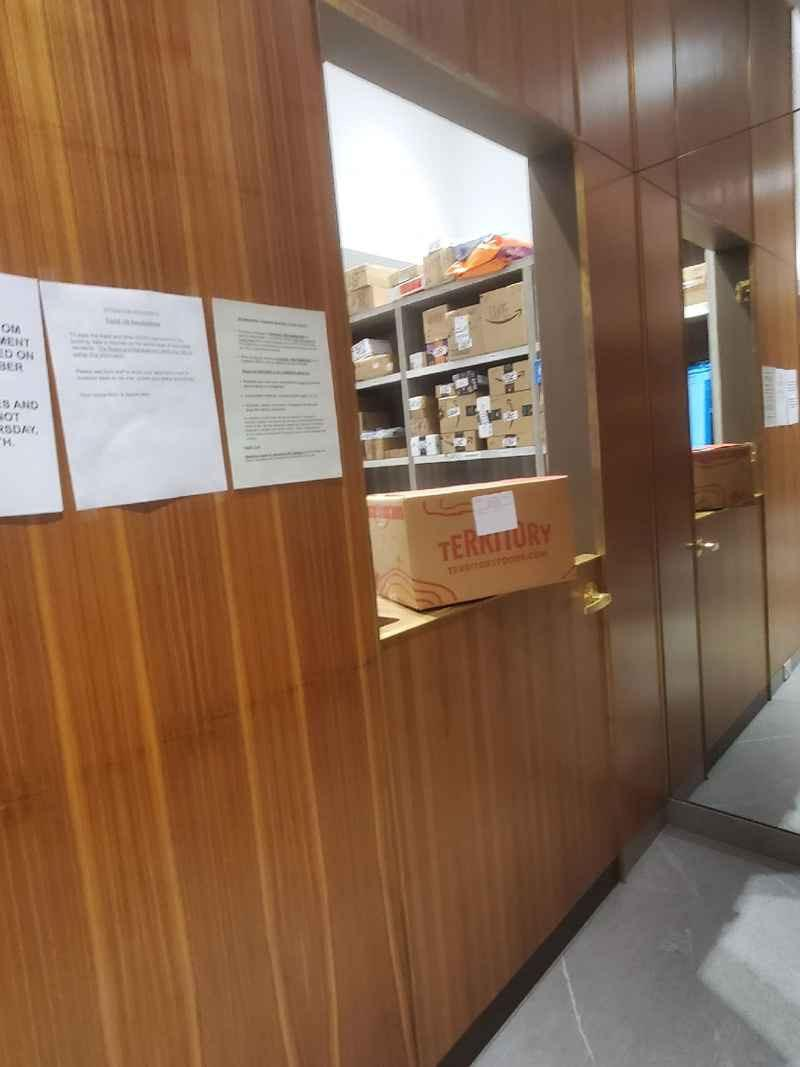package: (370, 470, 585, 617)
